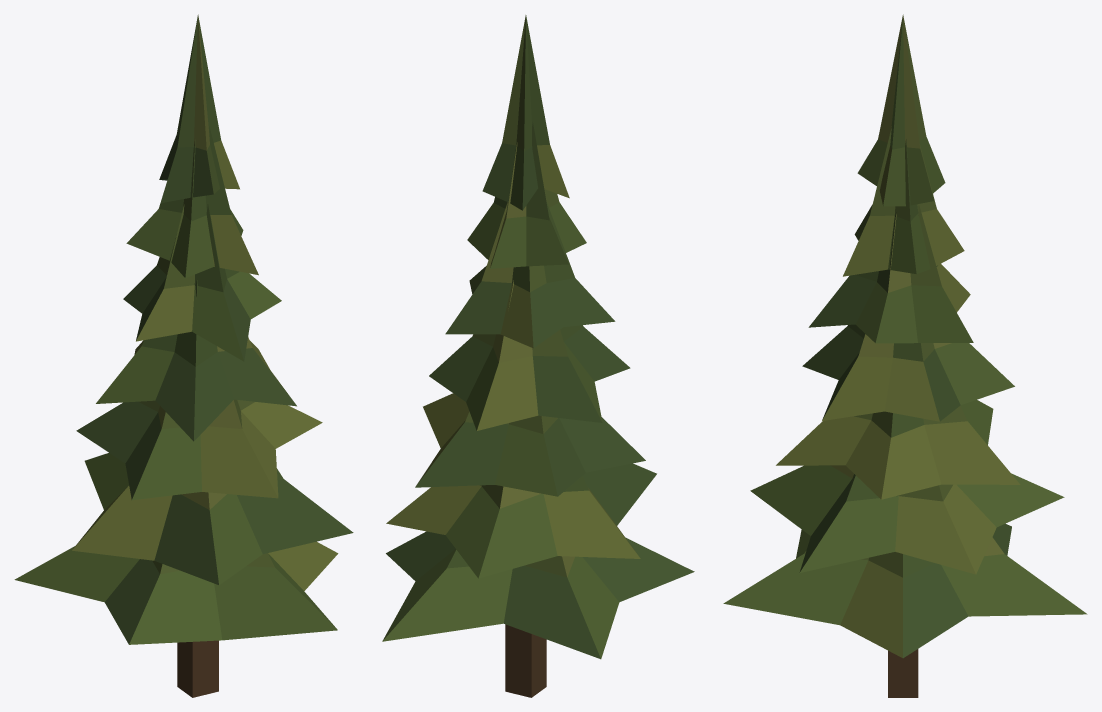
The model's file is greenhaven-pine-a.glb.
3 renders of one model, left to right at view 1: azimuth 30°, elevation 25°; view 2: azimuth 150°, elevation 25°; view 3: azimuth 270°, elevation 25°, orthographic.
Parts seen in each view (by area): view 1: Greenhaven_LayeredPine_a; view 2: Greenhaven_LayeredPine_a; view 3: Greenhaven_LayeredPine_a.
Part boxes in pixels (box(x1,y1,x2,y2)): Greenhaven_LayeredPine_a: box(14, 14, 353, 697); Greenhaven_LayeredPine_a: box(382, 15, 694, 697); Greenhaven_LayeredPine_a: box(723, 14, 1087, 697).
Bounding box in the file's own units: 2.77 × 6.62 × 3.23.
